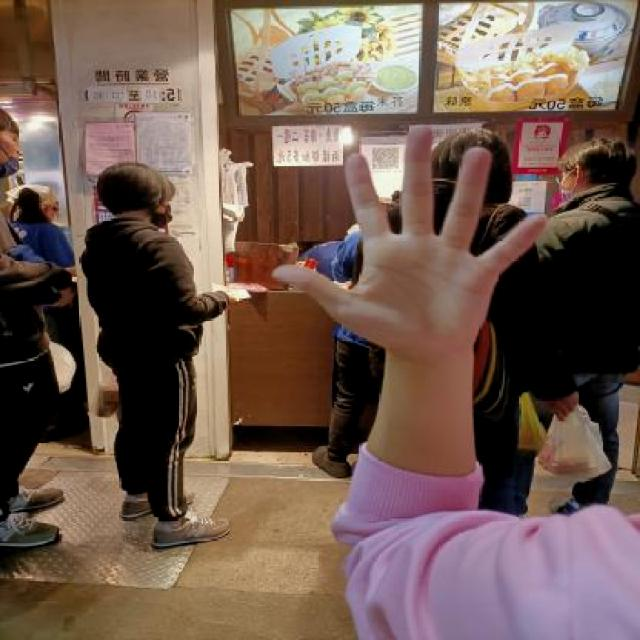no_glove: (261, 120, 561, 362)
